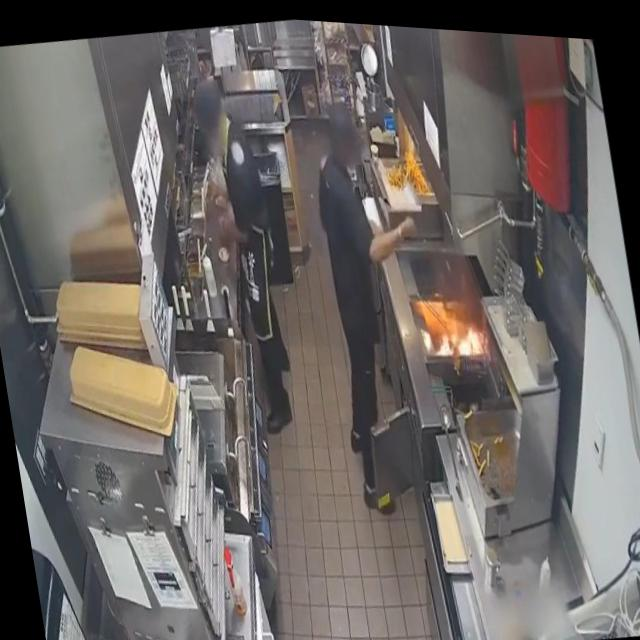fire: (430, 309, 490, 356)
